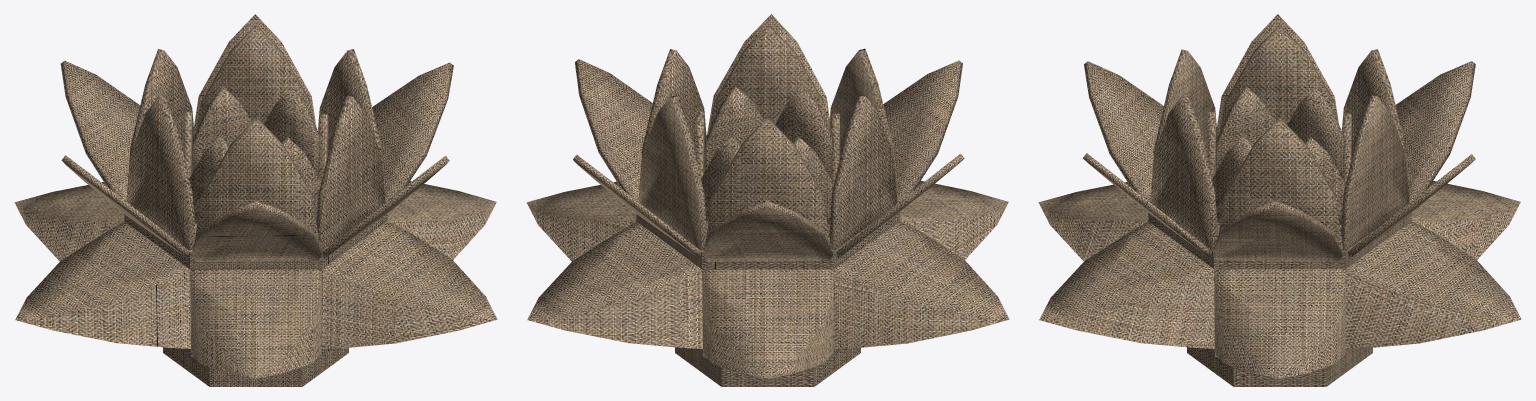
Rendered from lotus_lanttern.glb.
3 views of the same model, side by side, from view 1: azimuth 30°, elevation 25°; view 2: azimuth 150°, elevation 25°; view 3: azimuth 270°, elevation 25° (orthographic).
Visible parts, largest first — view 1: Cylinder.001_0; view 2: Cylinder.001_0; view 3: Cylinder.001_0.
Boxes of the visible parts, left/top/right/bottom form: Cylinder.001_0: left=14, top=14, right=497, bottom=386; Cylinder.001_0: left=526, top=14, right=1009, bottom=386; Cylinder.001_0: left=1038, top=14, right=1521, bottom=386.
Size of the model in its own units: 8.46 by 4.7 by 7.34.
1 material, 1 textured.
